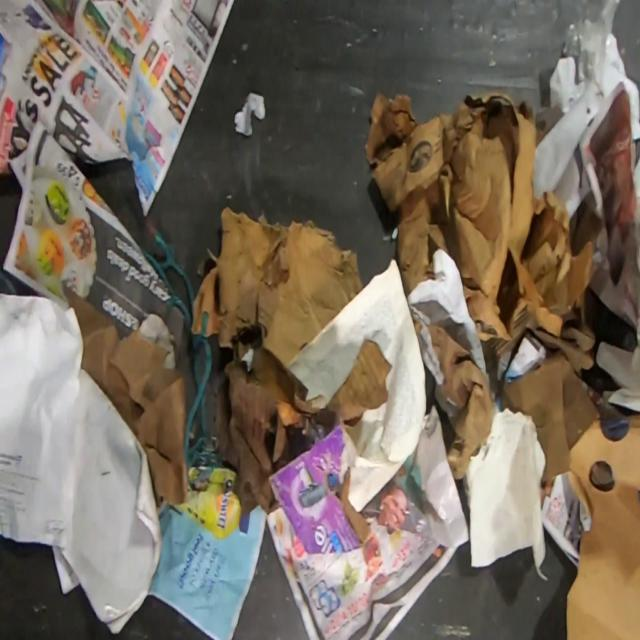cardboard: (365, 90, 640, 639), (190, 206, 363, 515), (322, 339, 393, 436)
soft_plastic: (562, 0, 621, 94)
